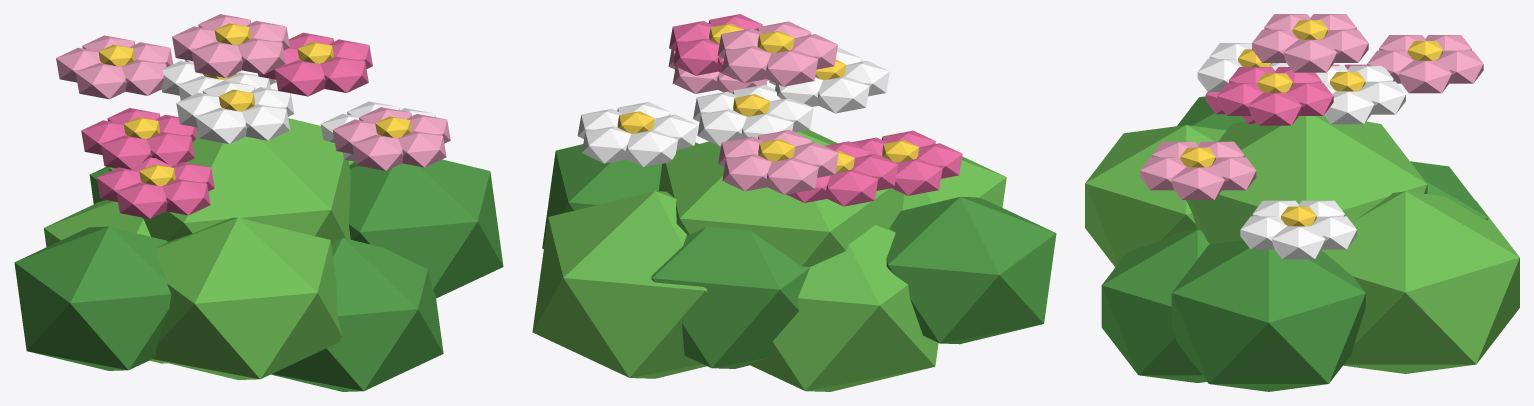
Rendered from flowers-pink.glb.
The picture shows the model from 3 angles, left to right: view 1: azimuth 30°, elevation 25°; view 2: azimuth 150°, elevation 25°; view 3: azimuth 270°, elevation 25°; orthographic projection. The views are drawn at different scales.
Visible parts, largest first — view 1: flowers-pink; view 2: flowers-pink; view 3: flowers-pink.
Boxes of the visible parts, <box> form: flowers-pink: <box>14,14,503,391</box>; flowers-pink: <box>532,14,1056,391</box>; flowers-pink: <box>1085,14,1519,391</box>.
Size of the model in its own units: 0.5699 by 0.3918 by 0.458.
